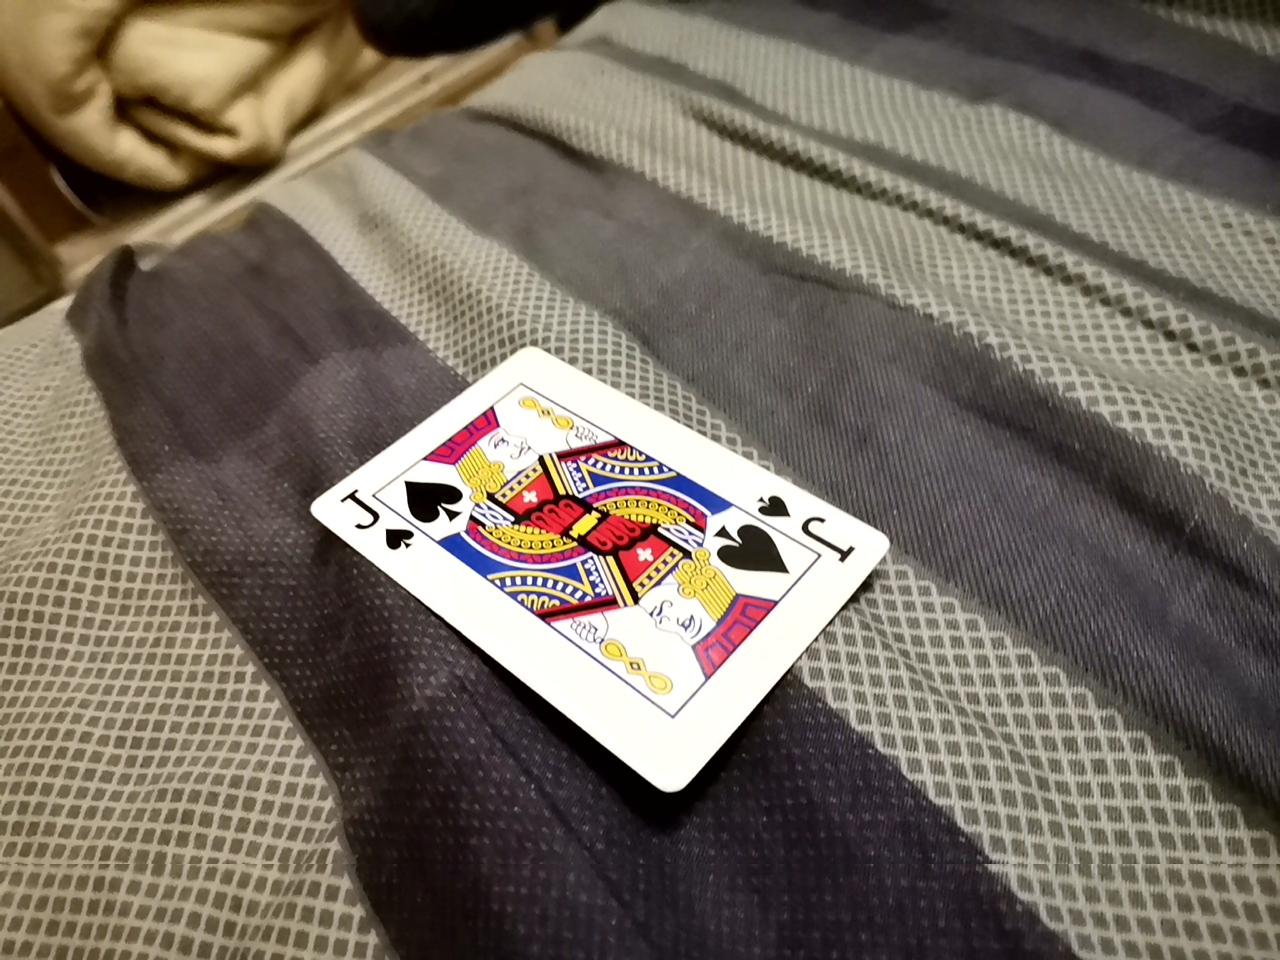ht j: (302, 356, 901, 805)
